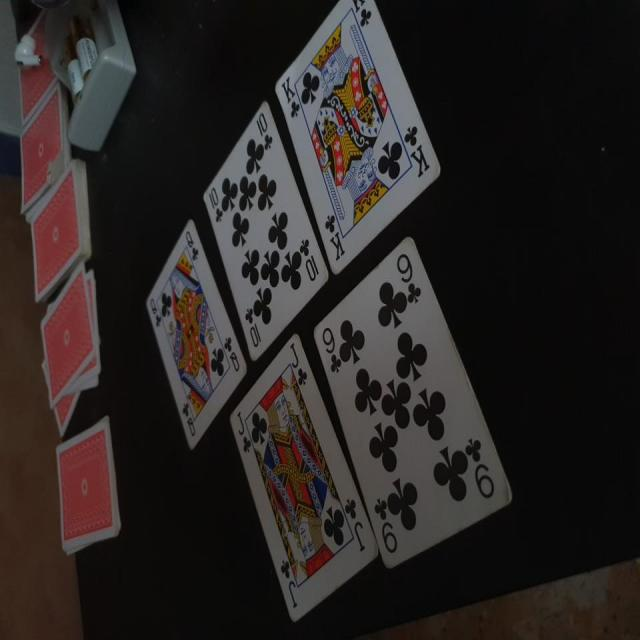10 Trefoils: (200, 100, 329, 362)
9 Trefoils: (308, 231, 513, 574)
J Trefoils: (227, 333, 379, 626)
K Trefoils: (272, 1, 442, 275)
Q Trefoils: (142, 217, 246, 451)
